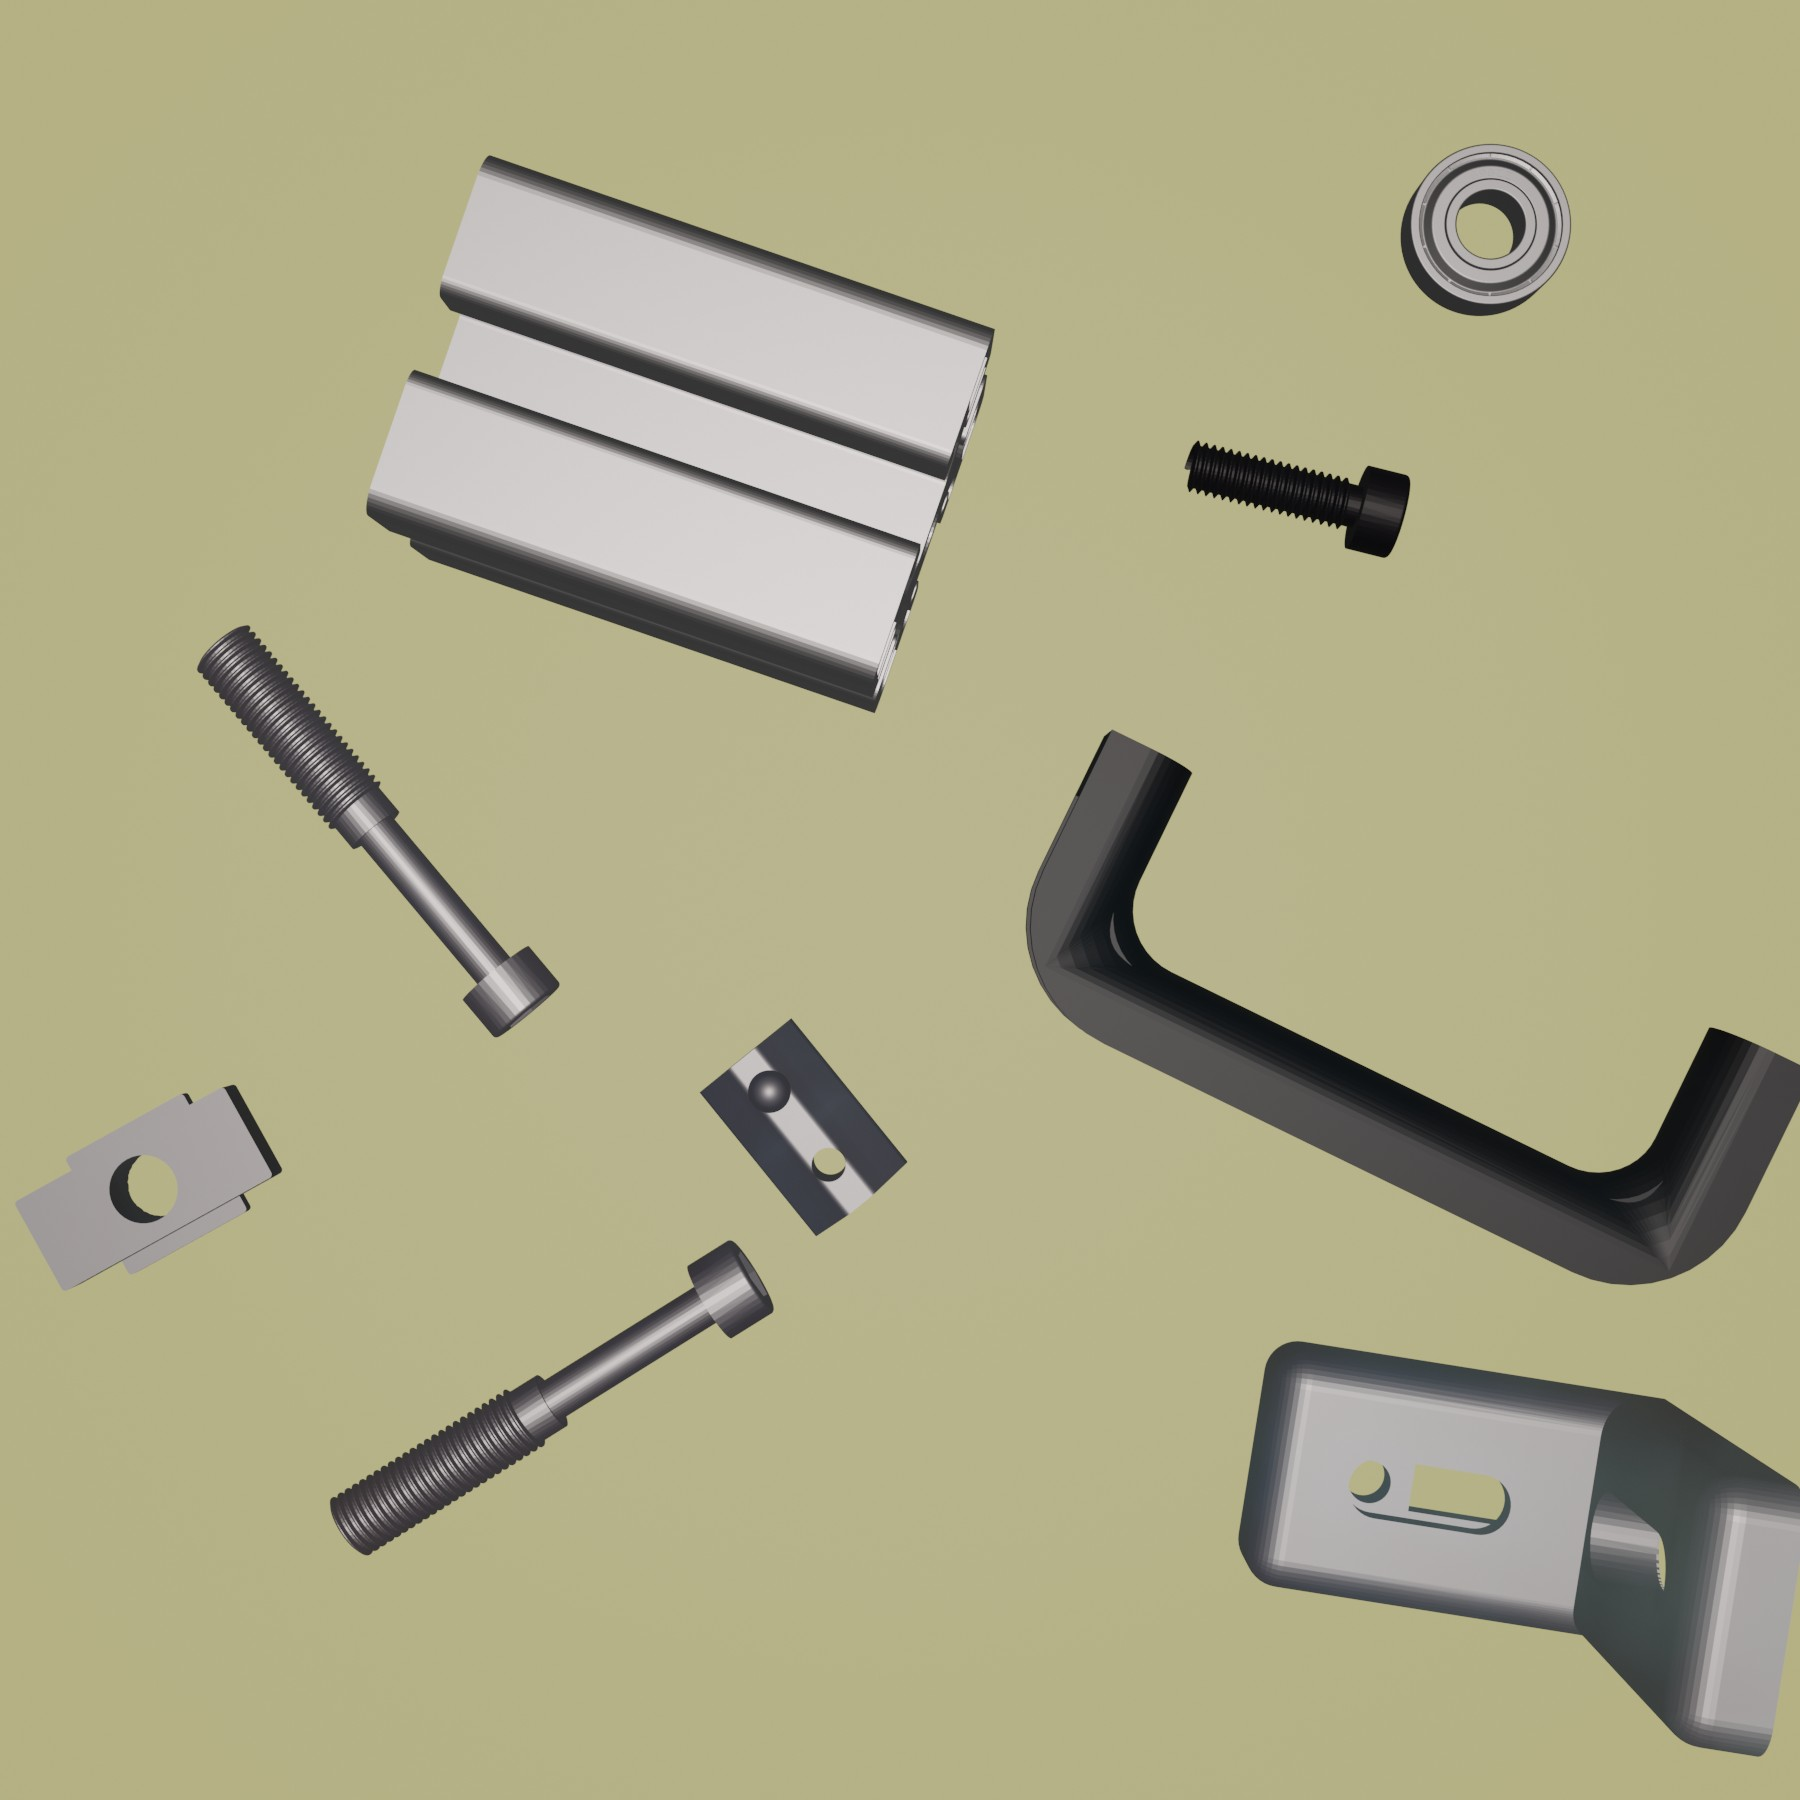Aluminium Extension: (363, 152, 996, 715)
Ball Bearing: (1396, 142, 1574, 318)
Multiwinkel: (1236, 1342, 1800, 1759)
Pull Handle: (1024, 729, 1800, 1286)
Shoulder Socket Head Cap Screw: (190, 621, 560, 1038), (326, 1236, 776, 1558)
Socket Head Cap Screw: (1179, 438, 1413, 559)
T Nut Square: (13, 1080, 285, 1292)
T Spring Nut: (697, 1012, 907, 1238)
